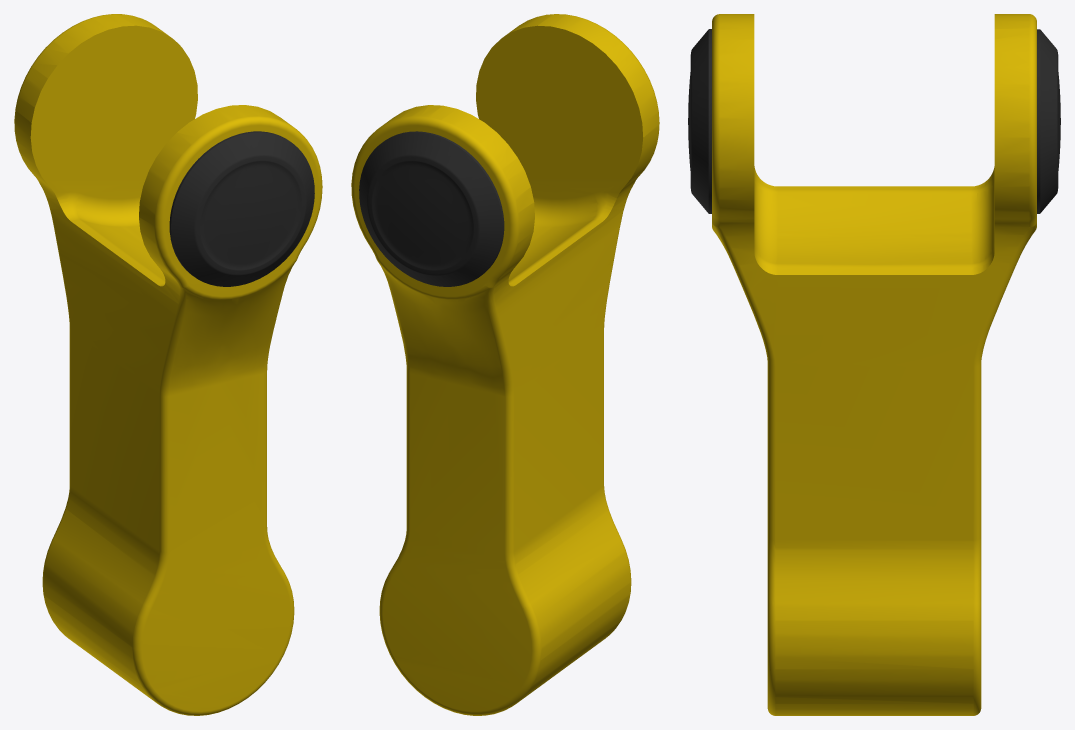
The model's file is torso2.glb.
3 views of the same model, side by side, from view 1: azimuth 30°, elevation 25°; view 2: azimuth 150°, elevation 25°; view 3: azimuth 270°, elevation 25° (orthographic). The views are drawn at different scales.
Parts seen in each view (by area): view 1: Mesh_0.001; view 2: Mesh_0.001; view 3: Mesh_0.001.
Part boxes in pixels (left/top/right/bottom): Mesh_0.001: left=14, top=14, right=322, bottom=715; Mesh_0.001: left=351, top=14, right=659, bottom=715; Mesh_0.001: left=688, top=14, right=1060, bottom=715.
Size of the model in its own units: 0.135 by 0.4724 by 0.234.
